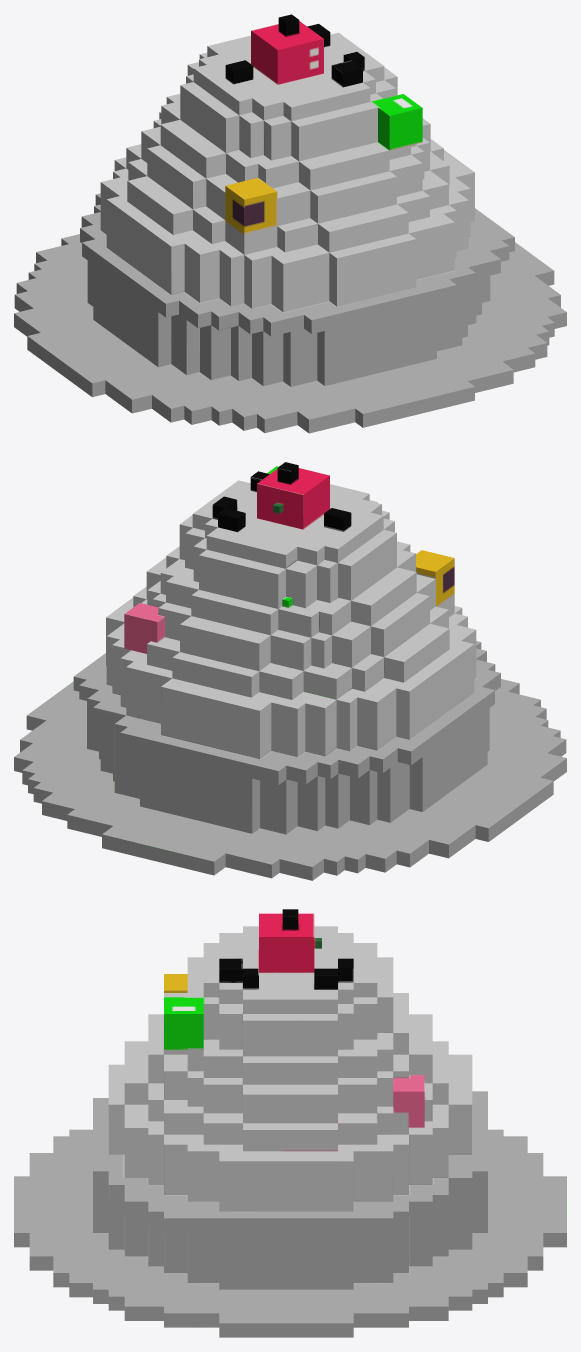
Rendered from shirokuma-kakigori.glb.
3 views of the same model, one above another, from view 1: azimuth 30°, elevation 25°; view 2: azimuth 150°, elevation 25°; view 3: azimuth 270°, elevation 25° (orthographic). The views are drawn at different scales.
Parts seen in each view (by area): view 1: shirokuma-kakigori; view 2: shirokuma-kakigori; view 3: shirokuma-kakigori.
Part boxes in pixels (x1,y1,x2,y2): shirokuma-kakigori: (14,14,566,433); shirokuma-kakigori: (14,462,566,880); shirokuma-kakigori: (14,909,566,1337).
Bounding box in the file's own units: 1.4 × 0.86 × 1.4.
1 material, 1 textured.
